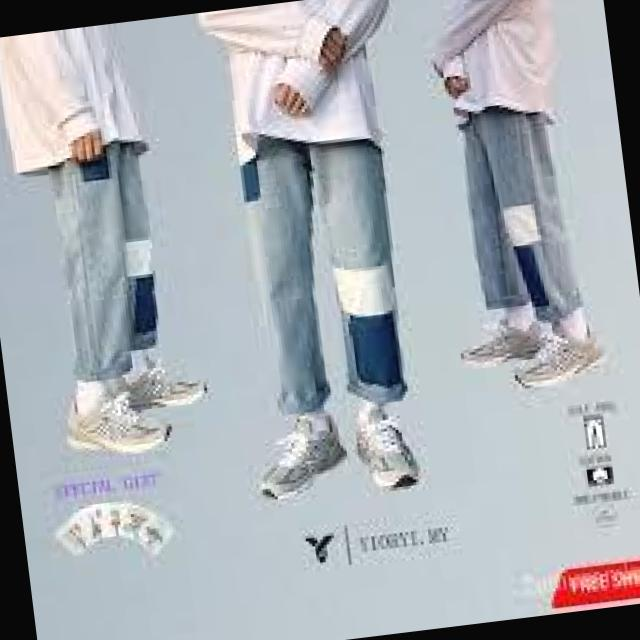pants: (236, 108, 417, 428), (448, 98, 588, 336), (41, 145, 172, 381)
